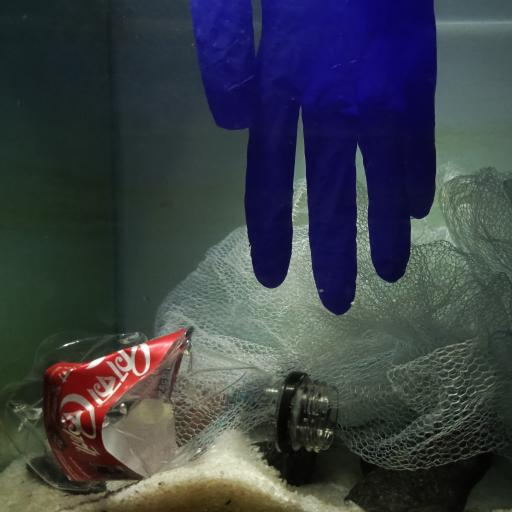glove: (191, 0, 437, 315)
net: (156, 160, 512, 472)
plastic_bottle: (3, 324, 338, 492)
